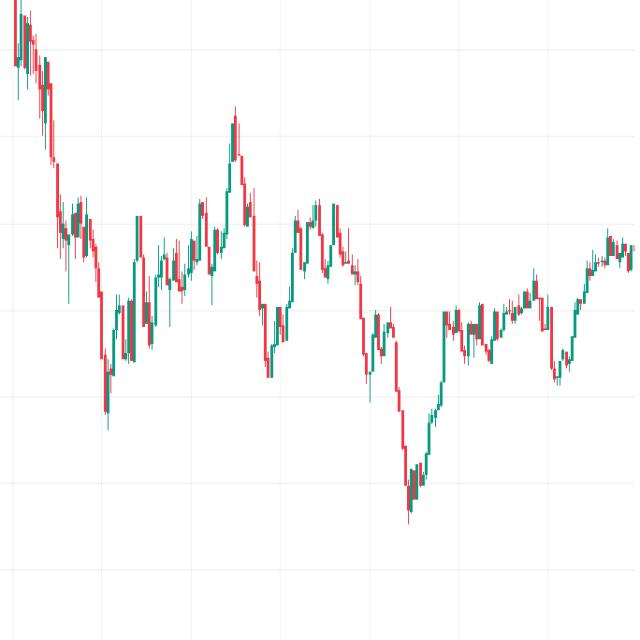Triple-Top: (286, 187, 360, 291)
